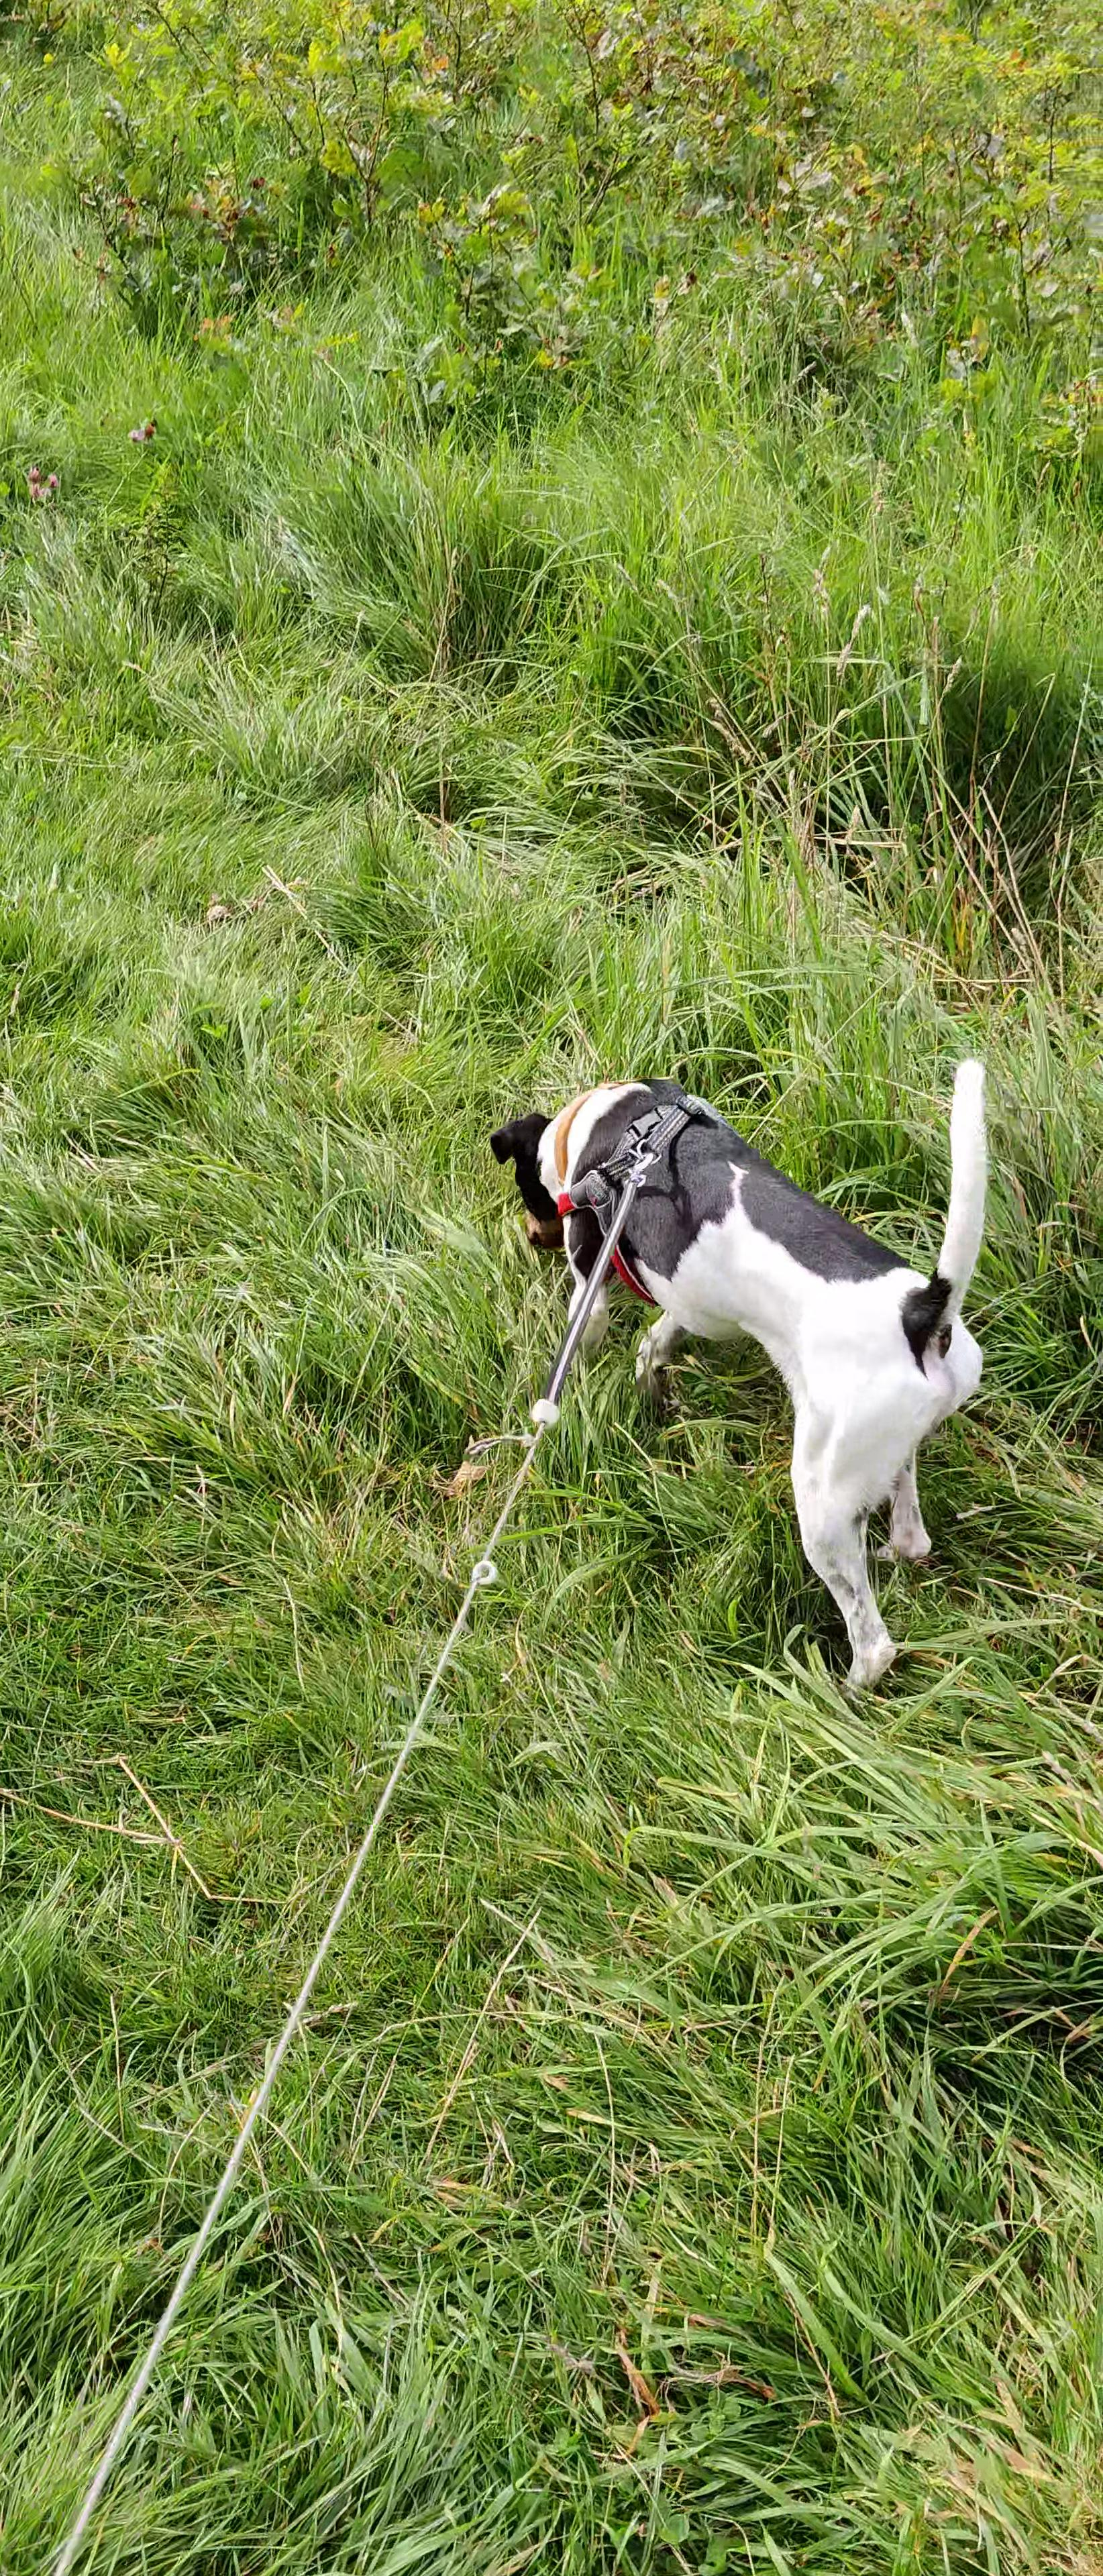Dog: (472, 997, 1022, 1704)
